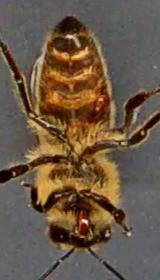varroa_mite: (84, 85, 120, 120)
